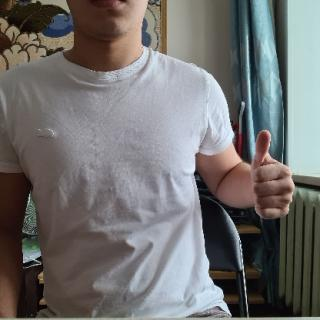ALIF: (248, 128, 296, 225)
